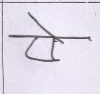e_matra: (27, 13, 58, 36)
